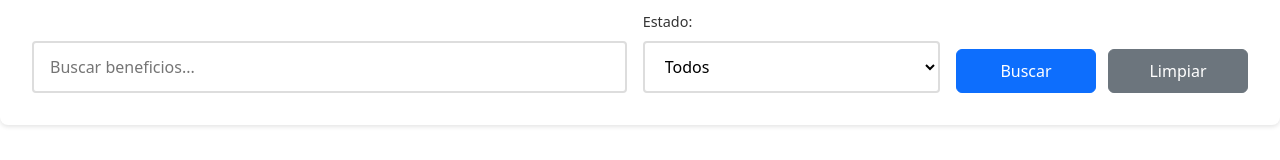
Test: SearchBox › resets search when clear button is clicked
Type "test" into the search field with placeholder "Buscar beneficios..." at {"x": 329, "y": 67}, box [32,41,627,93]
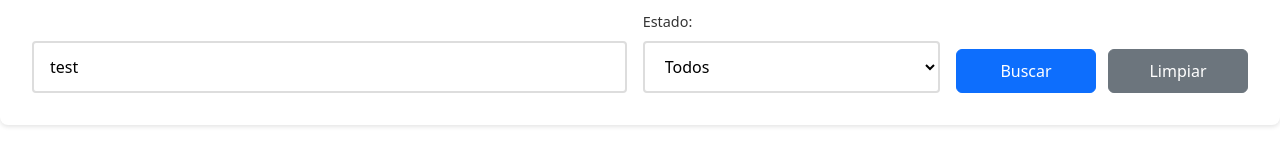
Click the button with aria-label "limpiar búsqueda" at {"x": 1178, "y": 71}, box [1108,49,1248,93]
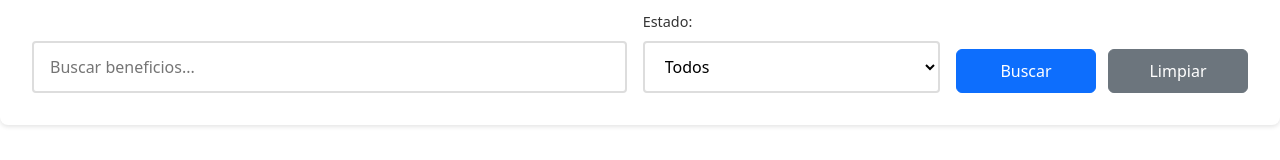
Now the search field with placeholder "Buscar beneficios..." is empty, box [32,41,627,93]
